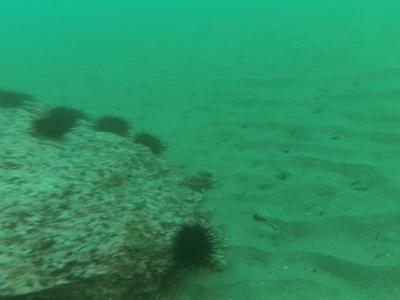holothurian: (207, 228, 231, 274)
urchin: (175, 224, 214, 270), (46, 106, 90, 129), (31, 119, 69, 142), (95, 115, 129, 137), (4, 90, 33, 110), (135, 133, 161, 155)
